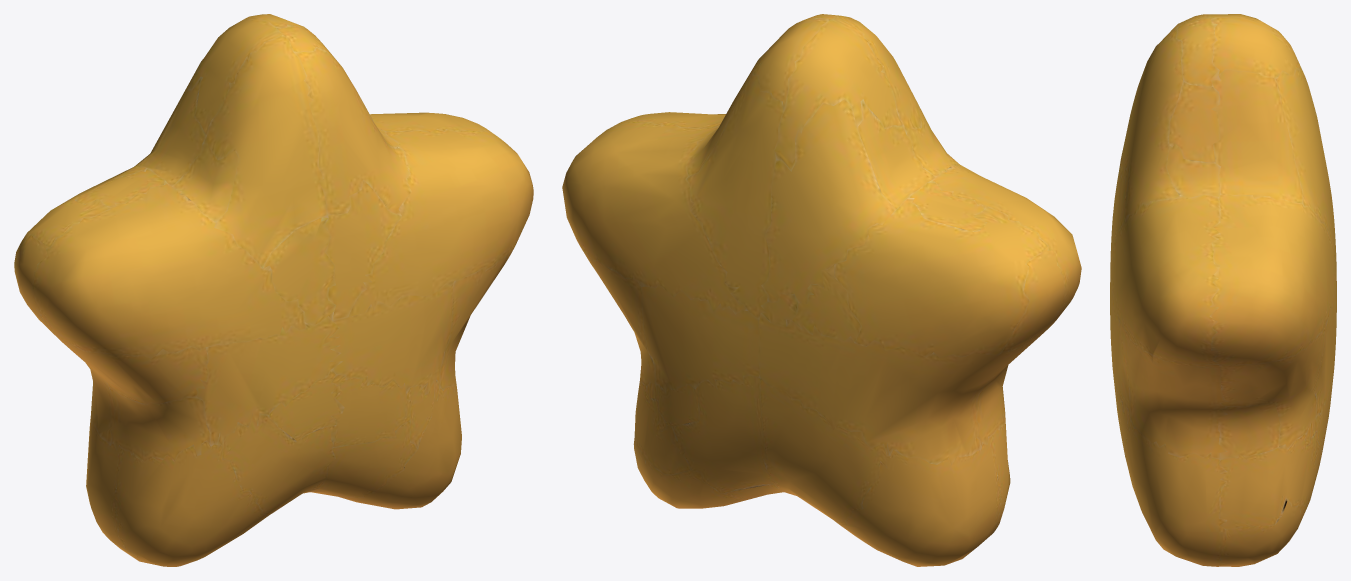
The model's file is deco-star.glb.
The picture shows the model from 3 angles, left to right: view 1: azimuth 30°, elevation 25°; view 2: azimuth 150°, elevation 25°; view 3: azimuth 270°, elevation 25°; orthographic projection. The views are drawn at different scales.
Visible parts, largest first — view 1: tripo_node_48c6b395-61ae-4c46-ac14-83c0f9796f84; view 2: tripo_node_48c6b395-61ae-4c46-ac14-83c0f9796f84; view 3: tripo_node_48c6b395-61ae-4c46-ac14-83c0f9796f84.
Part boxes in pixels (box(x1,y1,x2,y2)): tripo_node_48c6b395-61ae-4c46-ac14-83c0f9796f84: box(14, 14, 533, 566); tripo_node_48c6b395-61ae-4c46-ac14-83c0f9796f84: box(562, 14, 1081, 566); tripo_node_48c6b395-61ae-4c46-ac14-83c0f9796f84: box(1110, 14, 1336, 566).
Size of the model in its own units: 0.9795 by 0.9744 by 0.4106.
1 material, 1 textured.
